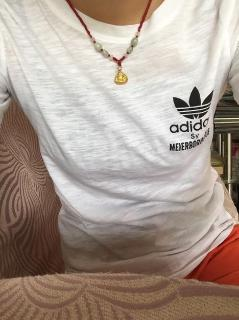short sleeve top: (0, 0, 239, 291)
